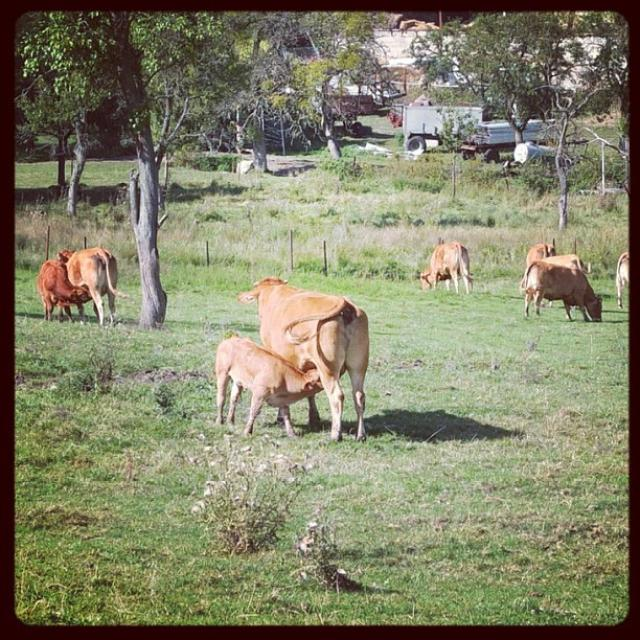Vehicle: (402, 106, 497, 154)
